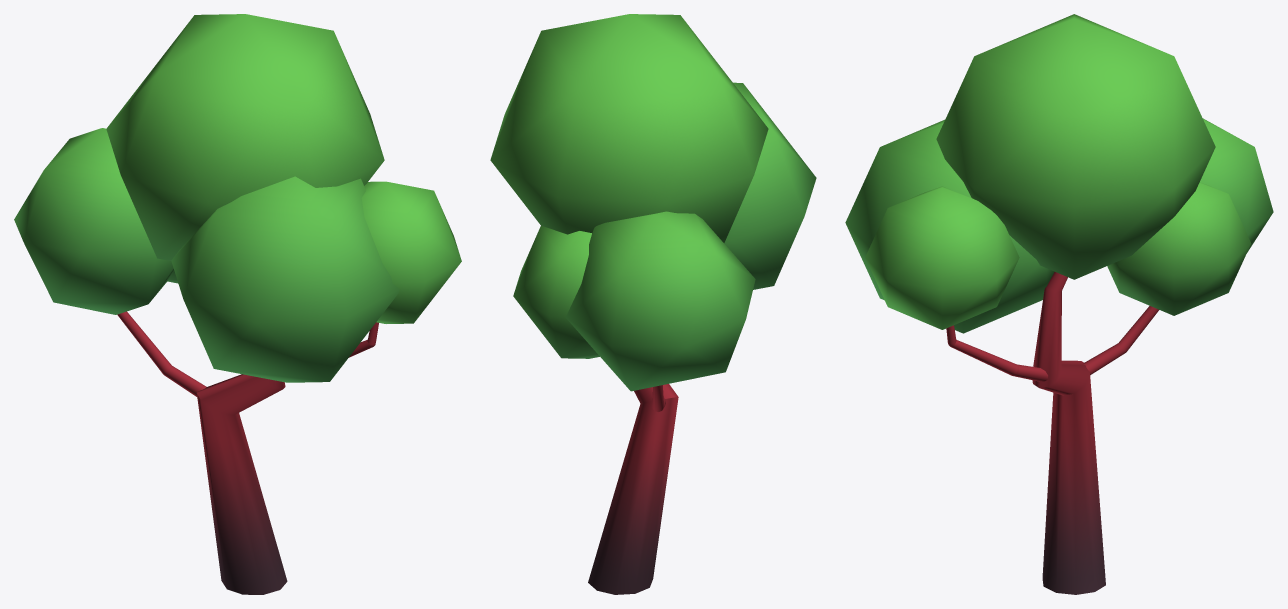
File: oak3.fbx
3 views of the same model, side by side, from view 1: azimuth 30°, elevation 25°; view 2: azimuth 150°, elevation 25°; view 3: azimuth 270°, elevation 25° (orthographic).
Parts seen in each view (by area): view 1: oak3.003; view 2: oak3.003; view 3: oak3.003.
Boxes of the visible parts, x1=… form: oak3.003: x1=14, y1=14, x2=461, y2=594; oak3.003: x1=490, y1=14, x2=816, y2=594; oak3.003: x1=845, y1=14, x2=1273, y2=594.
Bounding box in the file's own units: 519 × 909 × 631.
